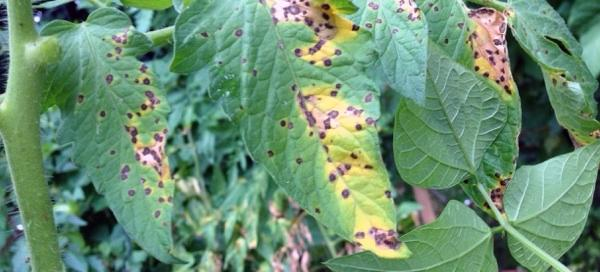Tomato Septoria leaf spot: (205, 1, 403, 255), (65, 10, 176, 261)
